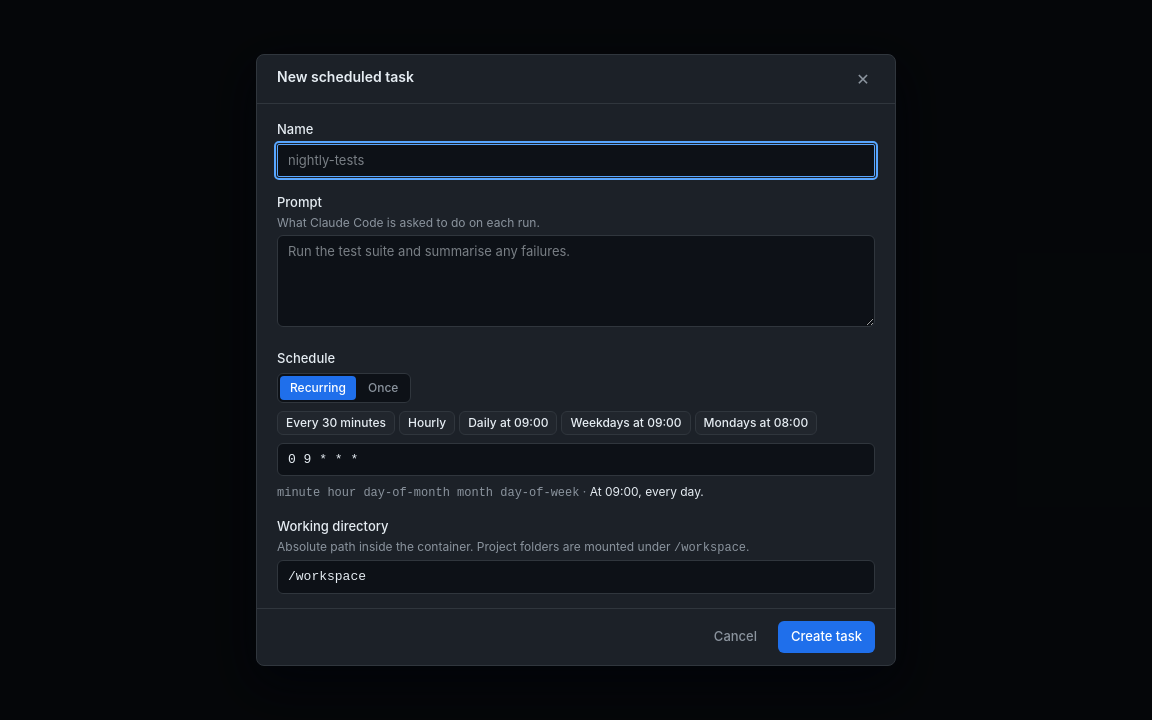
Scenario: TaskEditorModal › refuses to submit an invalid cron expression and says why
Type "nightly" into the field labelled "Name" at x=576, y=160, box [277, 144, 875, 177]
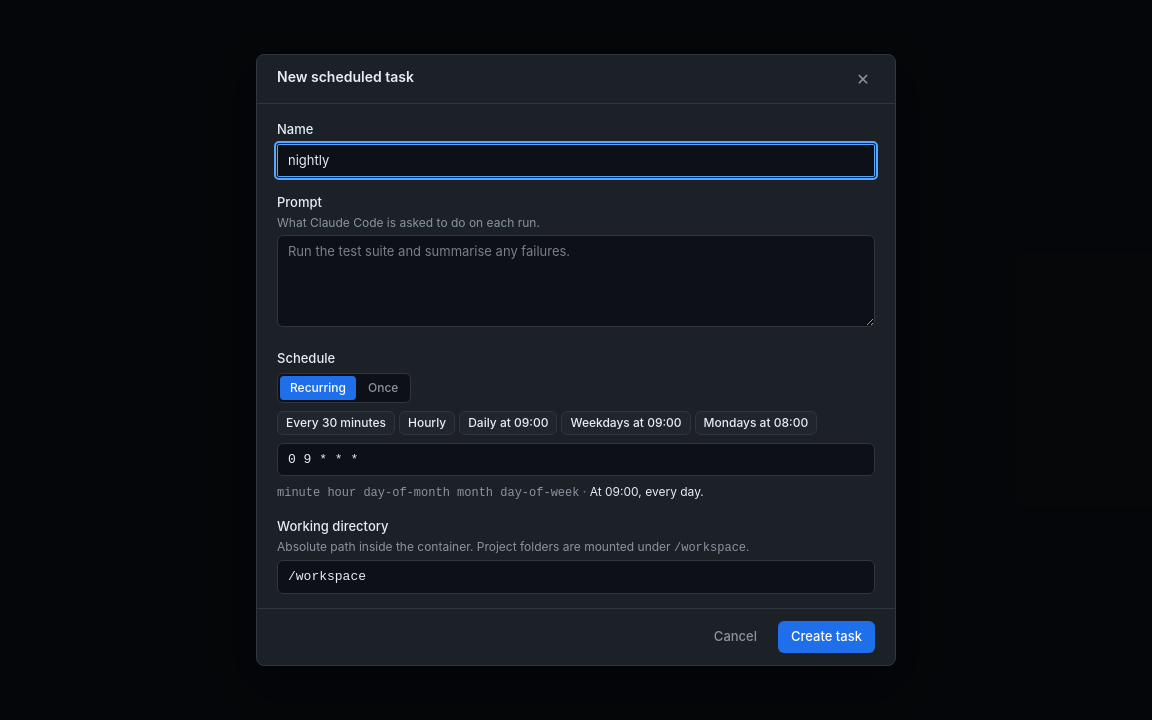
Type "do the thing" into the text box labelled "Prompt" at x=576, y=281, box [277, 235, 875, 327]
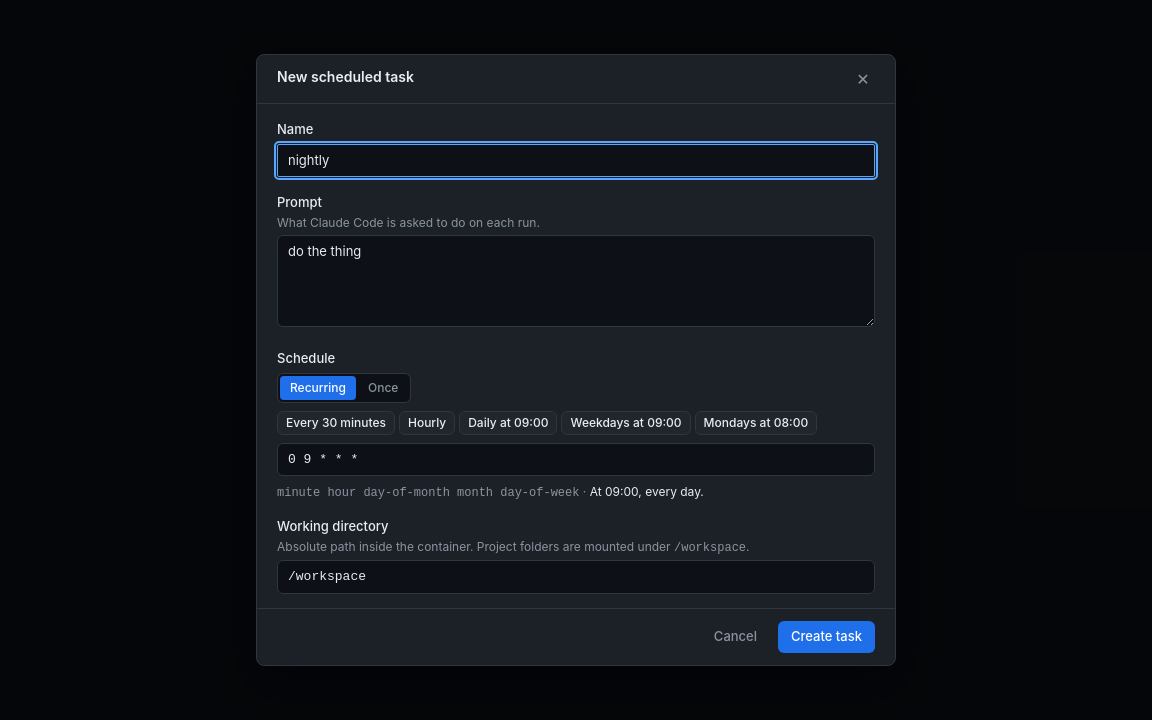
Replace the text in the field named "cron expression" with "99 * * * *" at x=576, y=459, box [277, 442, 875, 476]
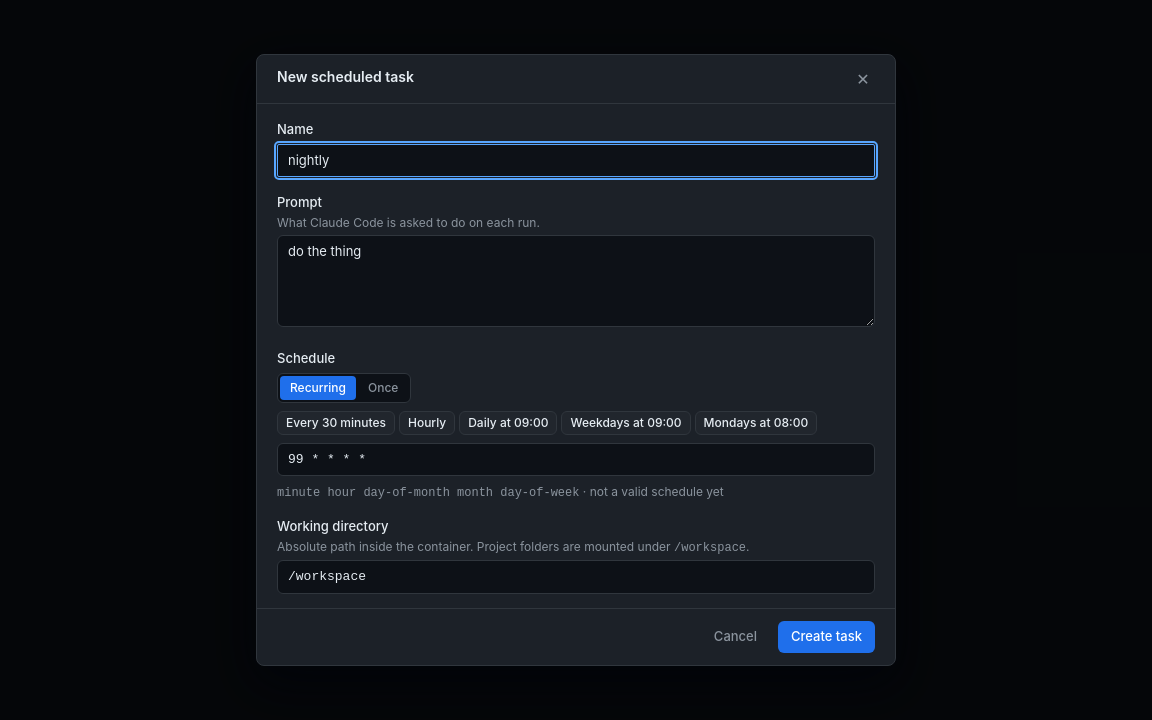
Click the button "Create task" at x=826, y=637, box [778, 621, 875, 653]
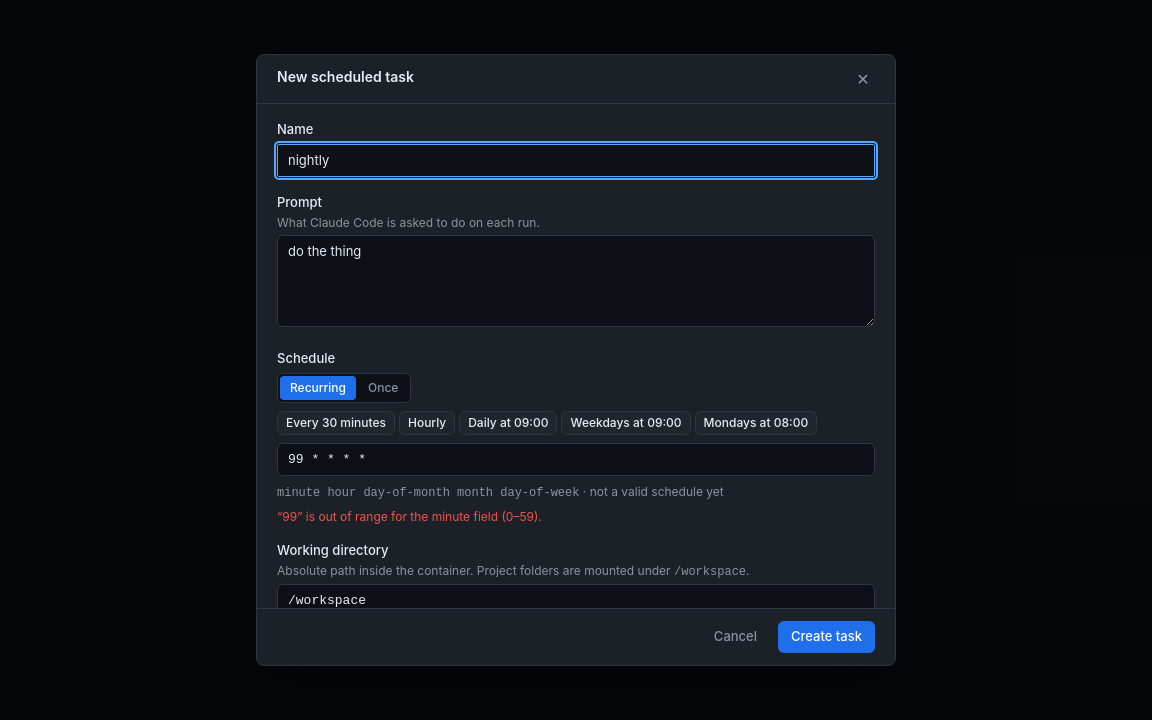
Result: the message shows "out of range for the minute field" at [277, 509, 542, 524]
